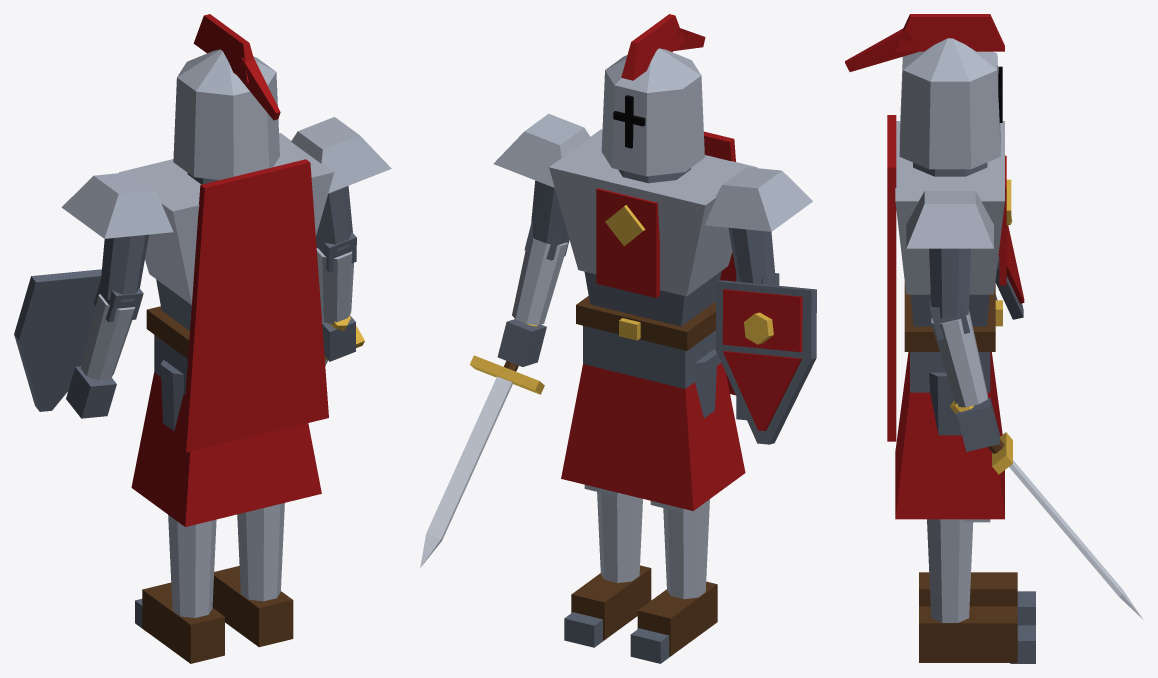
File: knight.glb
3 views of the same model, side by side, from view 1: azimuth 30°, elevation 25°; view 2: azimuth 150°, elevation 25°; view 3: azimuth 270°, elevation 25° (orthographic). The views are drawn at different scales.
Visible parts, largest first — view 1: Torso, Hips, Head, Shield, Knee_L, Knee_R, Arm_L, Arm_R, Elbow_L, Elbow_R, Hand_L, Leg_L (+1 smaller); view 2: Hips, Torso, Head, Shield, Knee_L, Knee_R, Arm_L, Arm_R, Sword, Elbow_R, Hand_R, Leg_L; view 3: Head, Hips, Torso, Knee_R, Arm_R, Elbow_R, Knee_L, Sword, Hand_R, Leg_R, Shield.
Part boxes in pixels (x1,y1,x2,y2): Torso: (119,133,334,452); Hips: (131,306,321,526); Head: (173,14,280,179); Shield: (14,269,101,411); Knee_L: (135,515,224,663); Knee_R: (212,503,293,647); Arm_L: (61,172,173,302); Arm_R: (291,117,391,251); Elbow_L: (81,279,143,380); Elbow_R: (316,232,356,323); Hand_L: (66,366,116,418); Leg_L: (160,359,184,430); Hips: (561,296,745,510); Torso: (549,129,757,395); Head: (601,14,705,176); Shield: (716,280,816,444); Knee_L: (630,499,717,663); Knee_R: (564,484,651,647); Arm_L: (705,167,812,285); Arm_R: (493,113,590,244); Sword: (420,323,544,567); Elbow_R: (512,221,569,325); Hand_R: (497,319,546,366); Leg_L: (694,349,717,418); Head: (845,14,1004,169); Hips: (895,282,1004,519); Torso: (887,115,1011,441); Knee_R: (919,519,1035,663); Arm_R: (906,191,993,318); Elbow_R: (930,300,987,407); Knee_L: (919,572,1035,625); Sword: (950,400,1143,619); Hand_R: (956,398,999,451); Leg_R: (929,372,961,435); Shield: (995,216,1024,319).
Size of the model in its own units: 1.12 by 1.89 by 0.8181.
